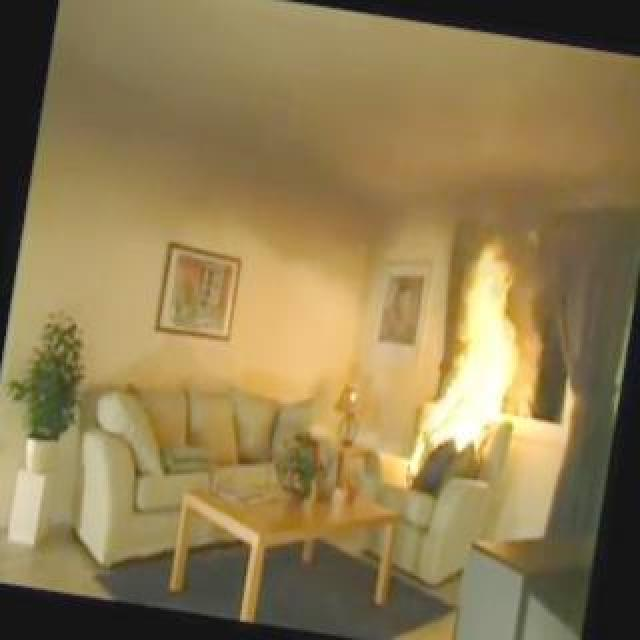Fire: (404, 242, 522, 484)
